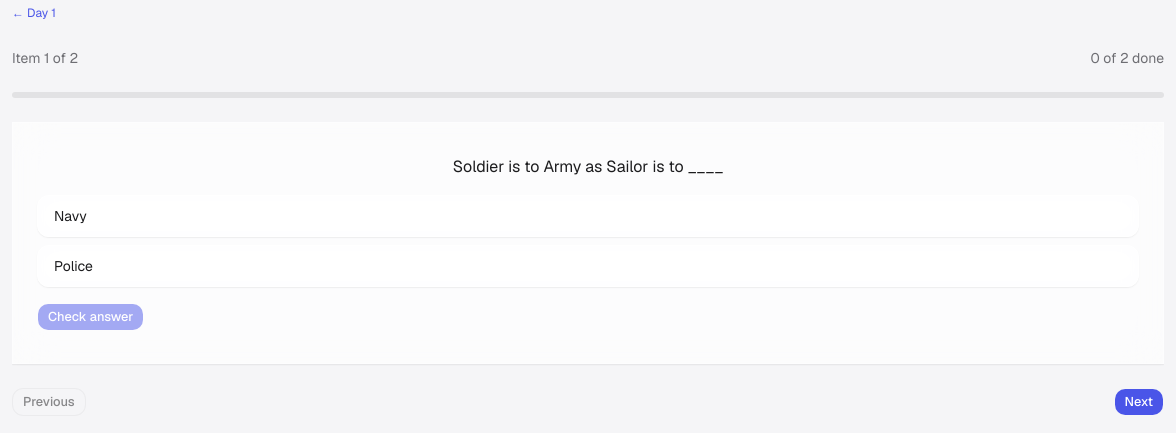
Test: BankPracticeRunner (MCQ) › moves between items with Next and Previous
Expected: the button "Previous" is disabled, [12,388,86,416]
Step 1. Click the button "Next" → [1139, 402], box [1114,388,1164,416]
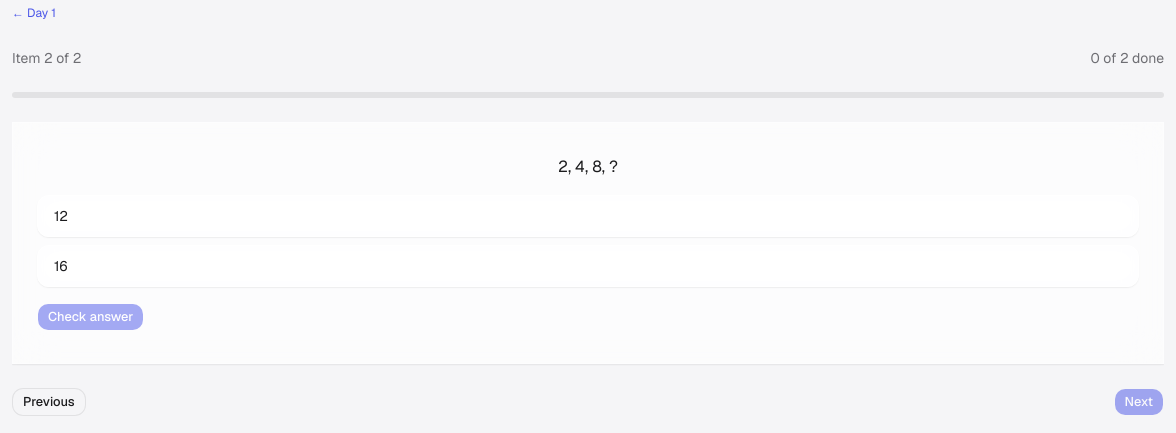
Expected: the text "Item 2 of 2" is shown, [12,48,82,68]
Expected: the button "Next" is disabled, [1114,388,1164,416]
